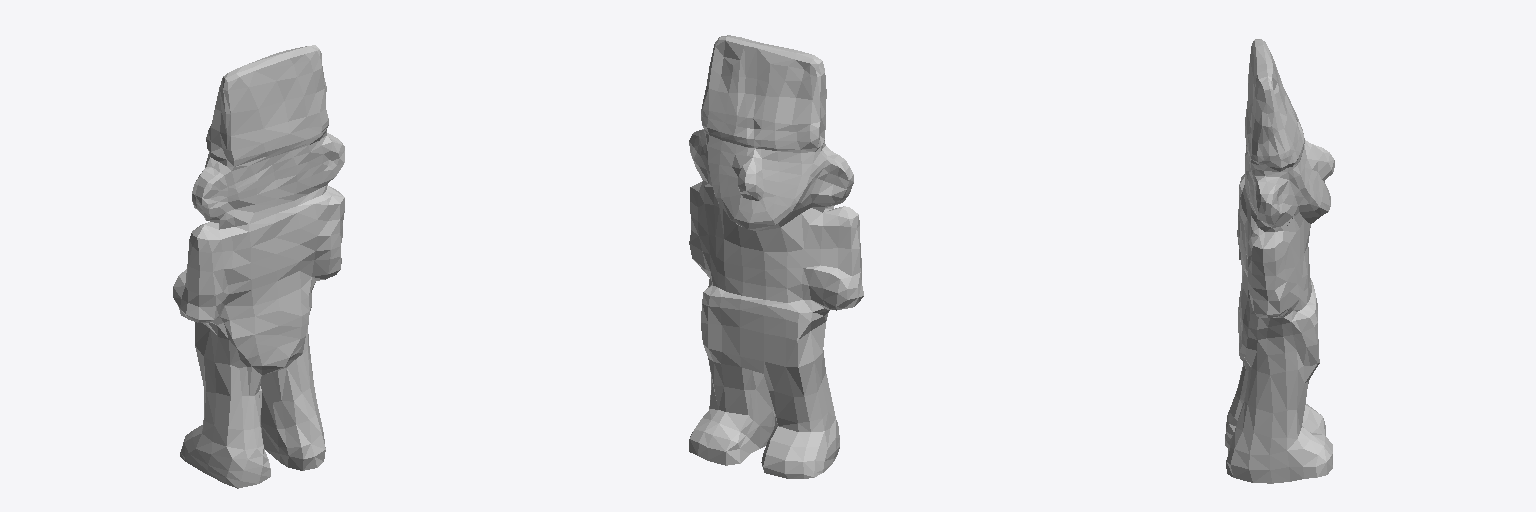
Rendered from escultura1.obj.
The picture shows the model from 3 angles: view 1: azimuth 30°, elevation 25°; view 2: azimuth 150°, elevation 25°; view 3: azimuth 270°, elevation 25°; orthographic projection.
Parts seen in each view (by area): view 1: Box002_Malla; view 2: Box002_Malla; view 3: Box002_Malla.
Boxes of the visible parts, box(x1,y1,x2,y2) form: Box002_Malla: box(173, 45, 344, 488); Box002_Malla: box(689, 35, 863, 478); Box002_Malla: box(1225, 39, 1334, 483).
Size of the model in its own units: 0.0437 by 0.1019 by 0.025.